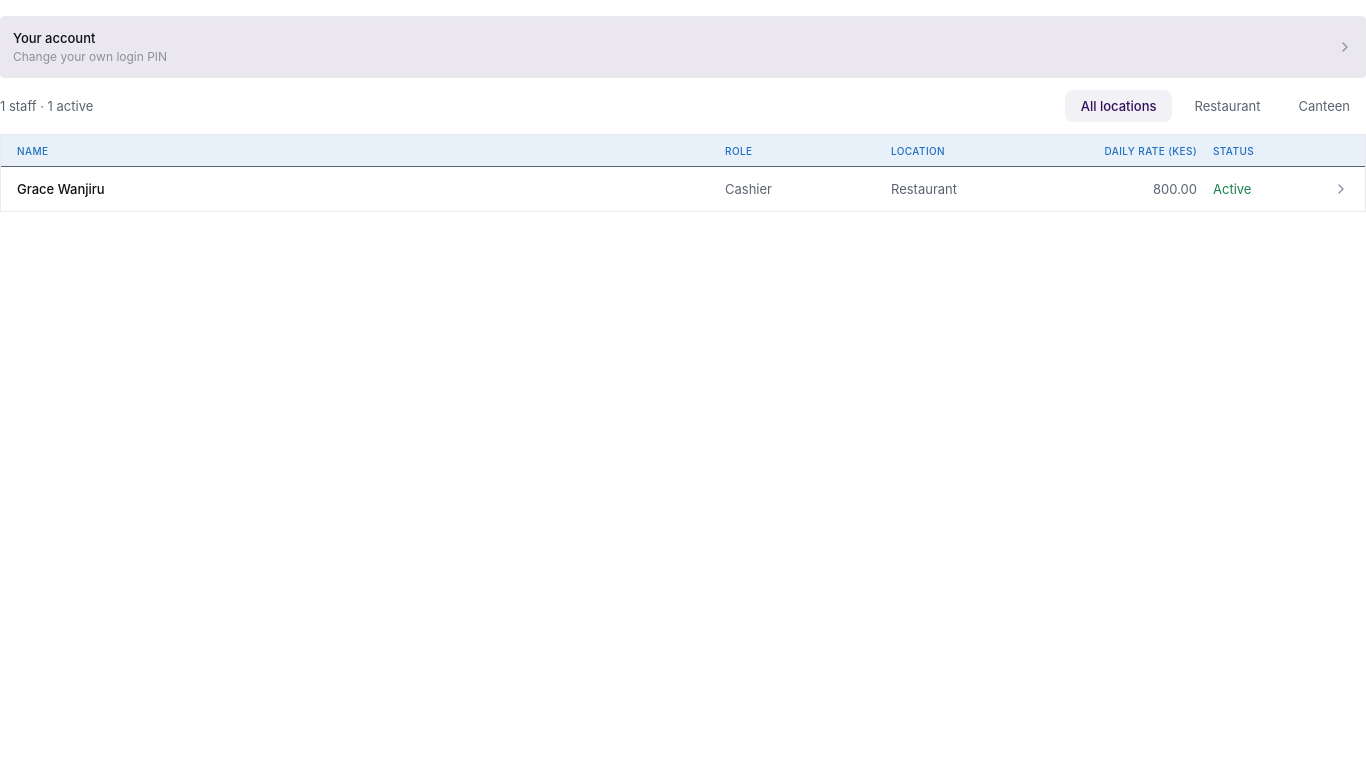
Test: Roster — your account PIN change › blocks submit when the confirm PIN doesn't match
Click the button with aria-label "Change your PIN" at (54, 38), box [0,16,1365,78]
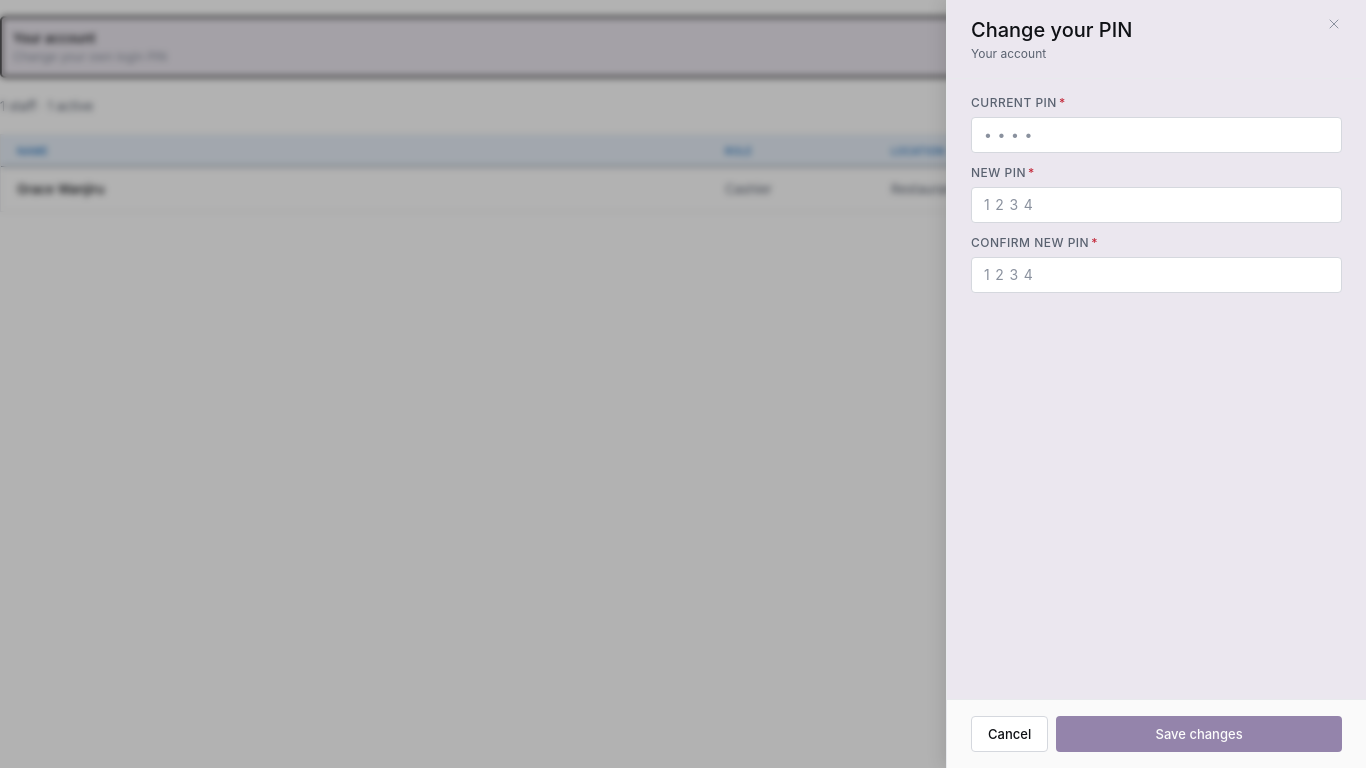
Type "1234" into the password field labelled "Current PIN*" at (1156, 135), box [984,125,1329,145]
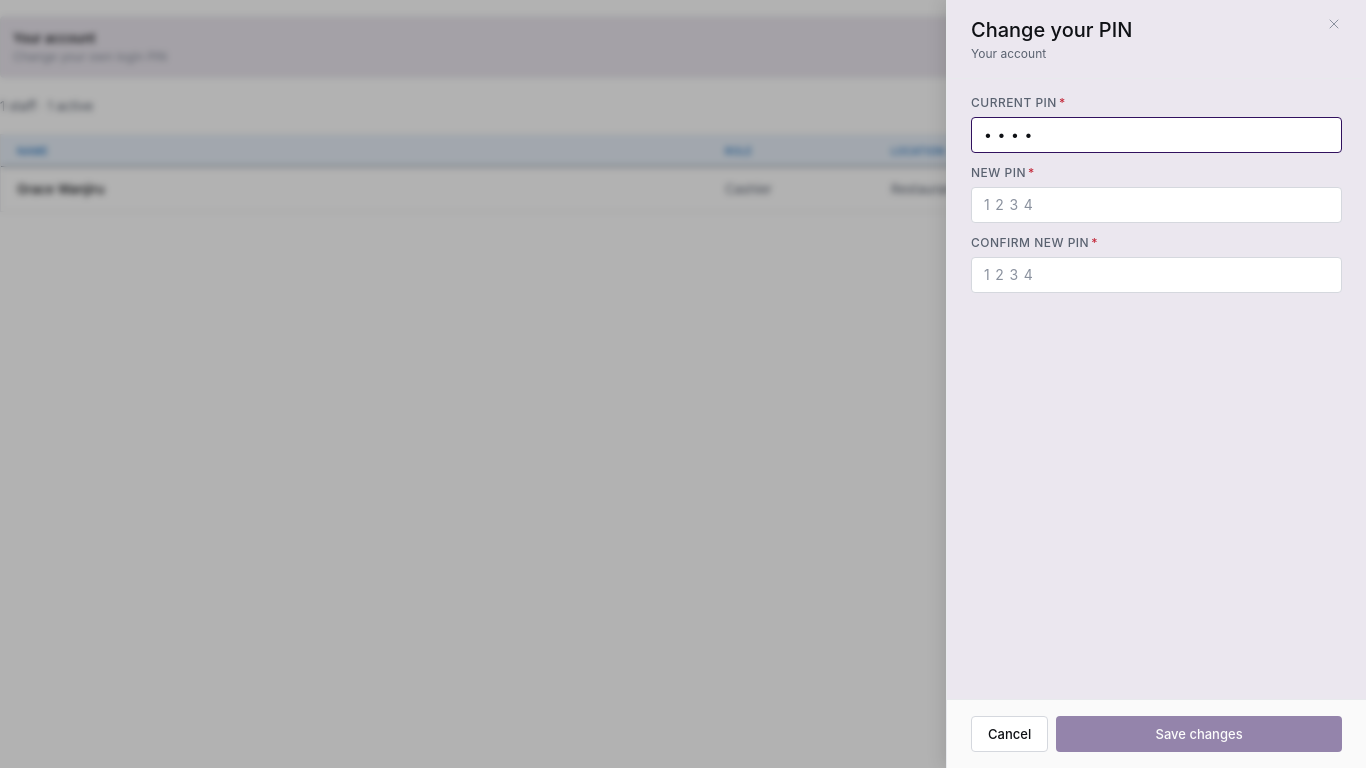
Type "5678" into the password field labelled "New PIN*" at (1156, 205), box [984,195,1329,215]
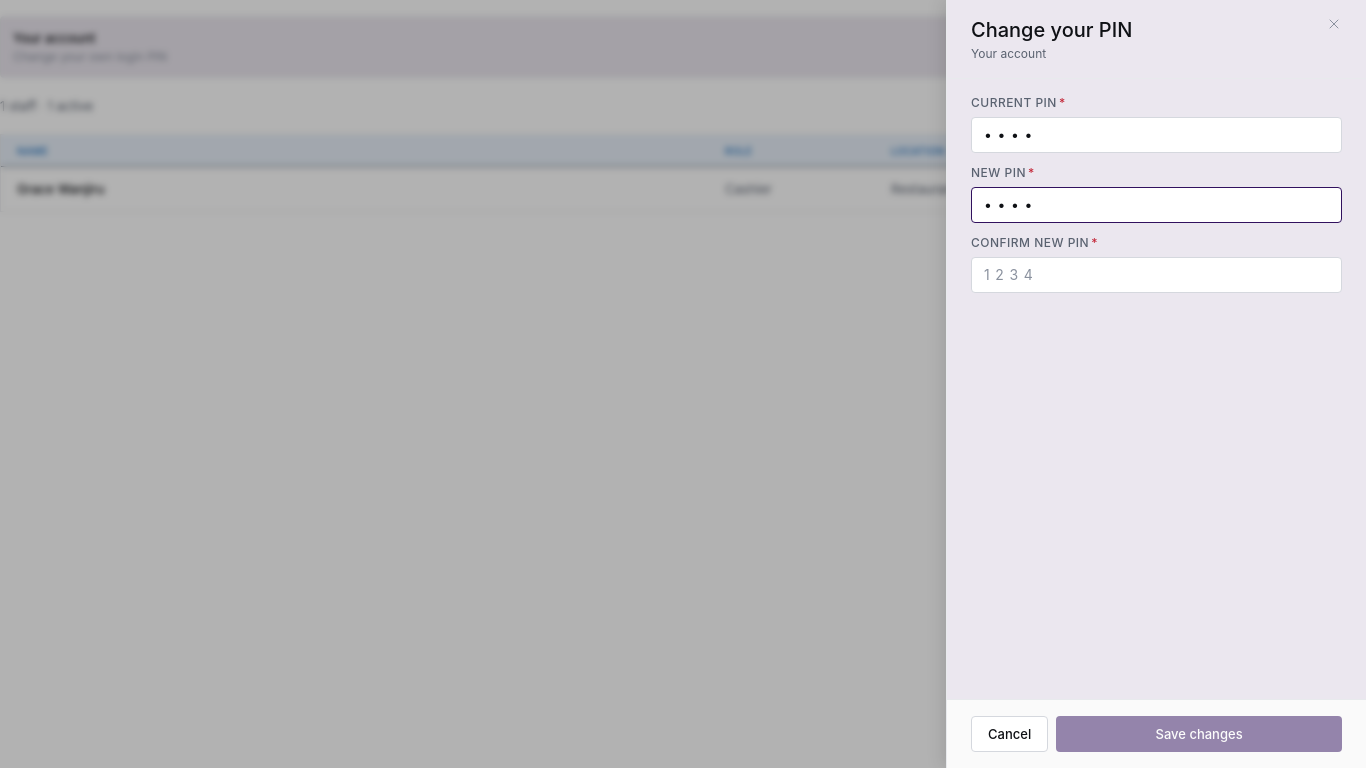
Type "5679" into the password field labelled "Confirm new PIN*" at (1156, 275), box [984,265,1329,285]
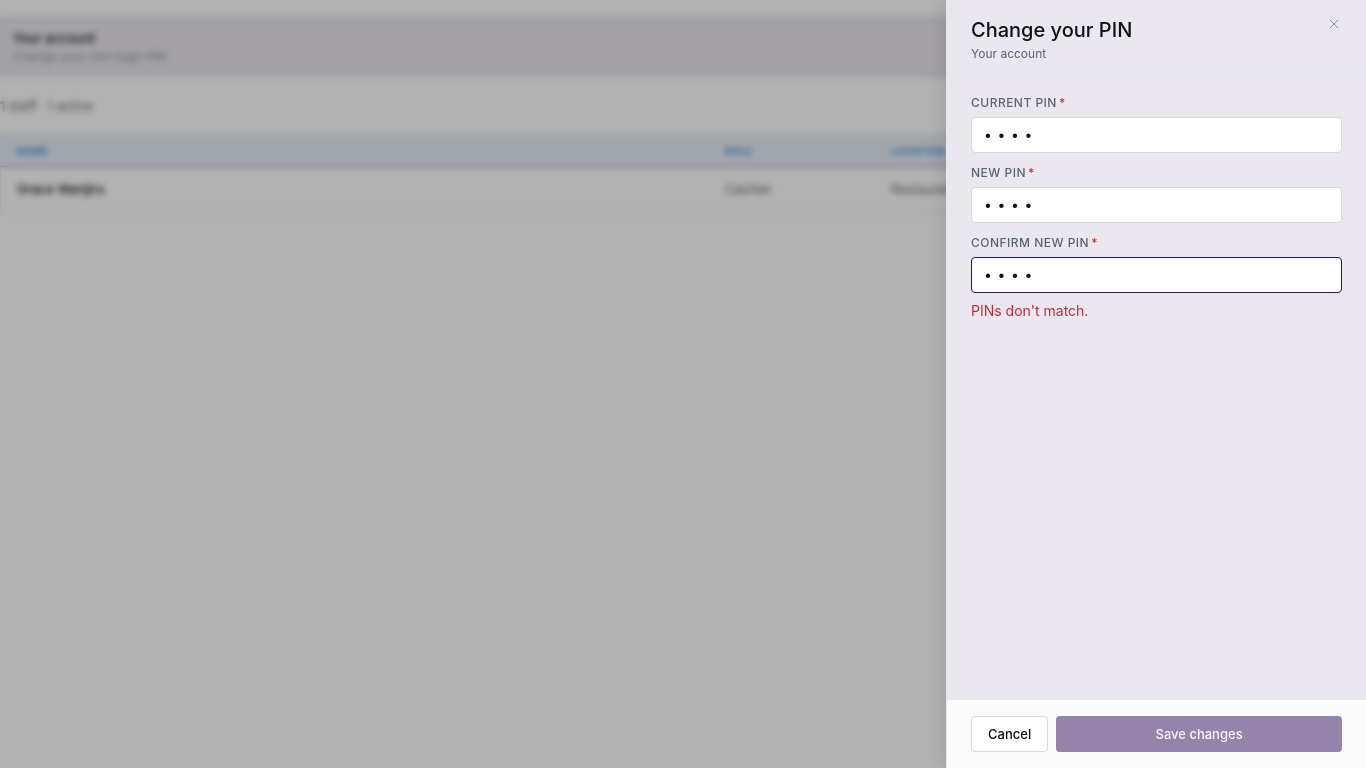
expect the button "Save changes" is disabled: met, box [1056,716,1342,752]
expect the text "PINs don't match." is shown: met, box [971,302,1088,319]
